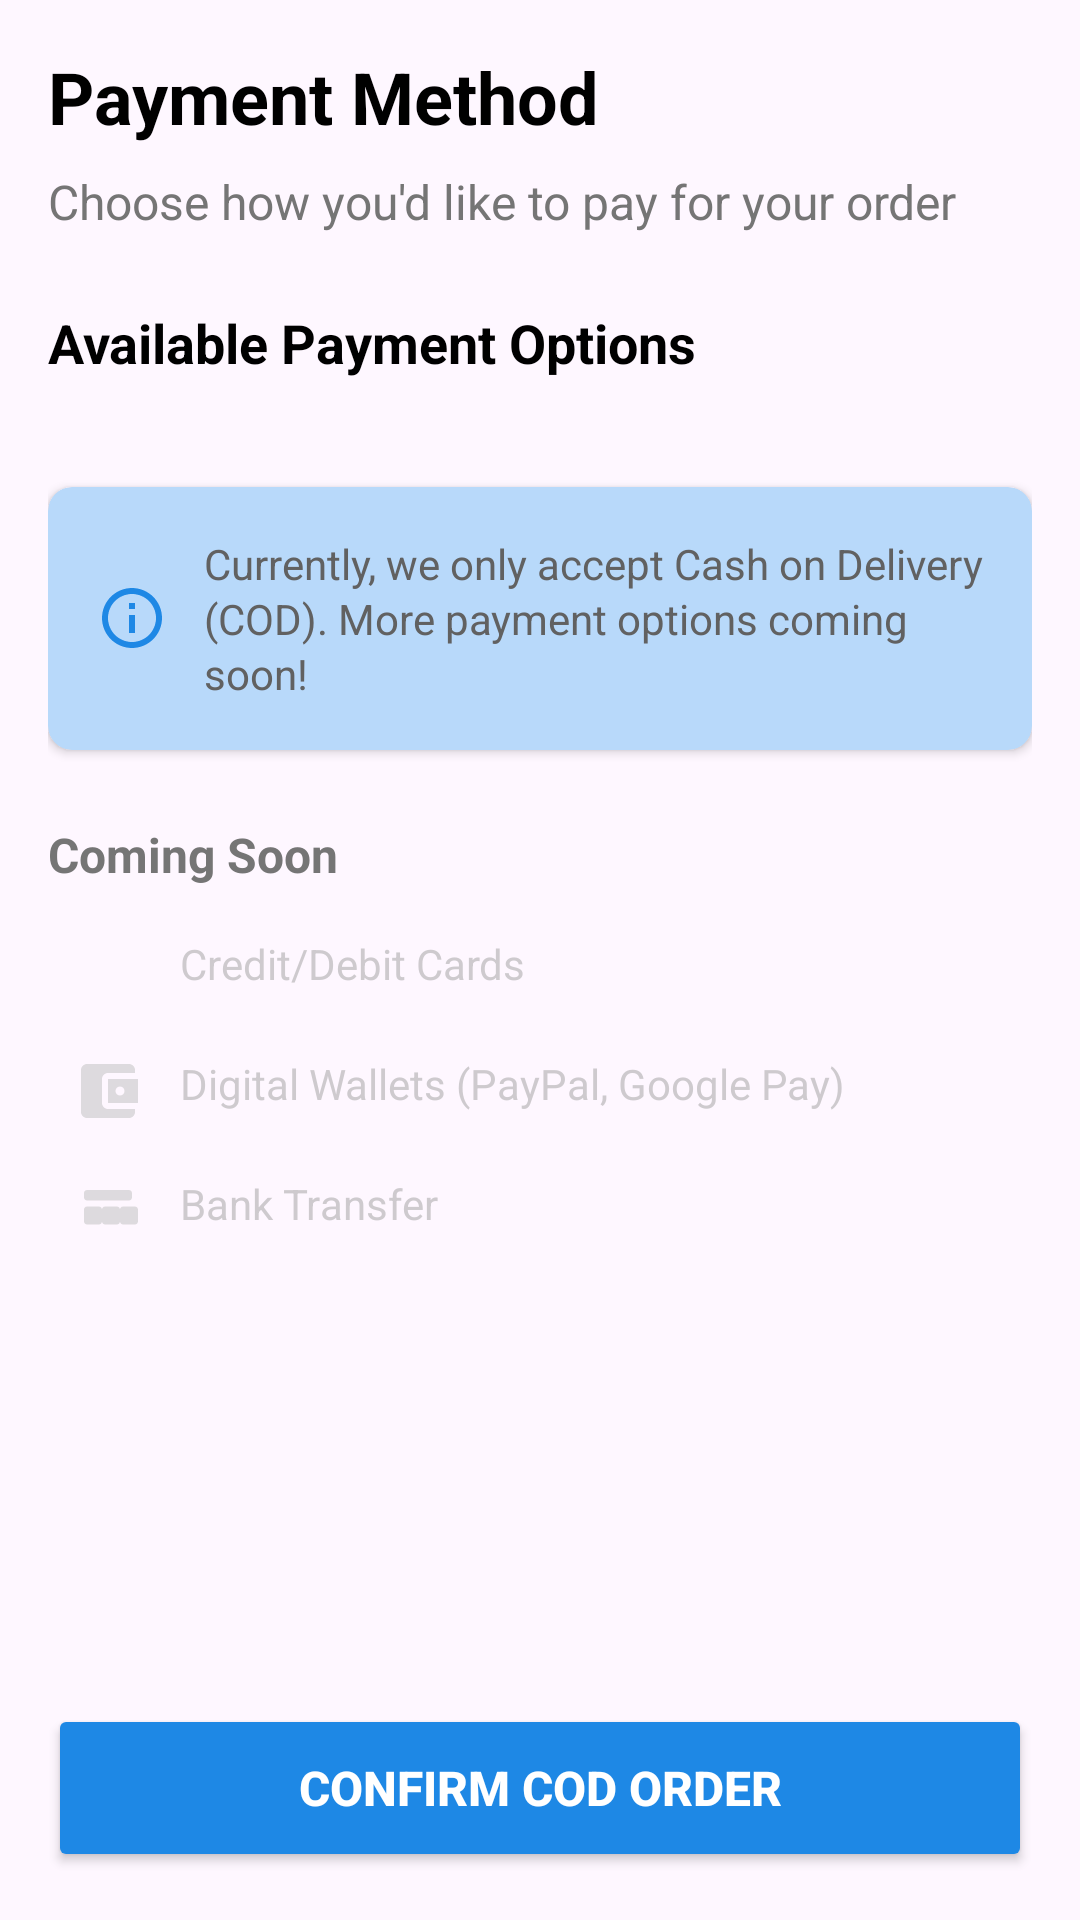

Icons on this 1080×1920 Android screen, each with its box as (x1, y1, x2, y2):
account balance wallet: (81, 1064, 138, 1118)
info: (102, 588, 162, 648)
